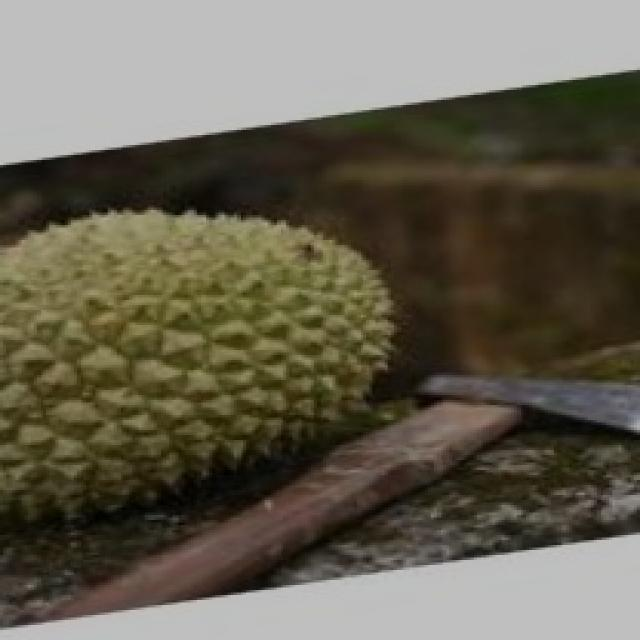fruit: (3, 170, 431, 580)
